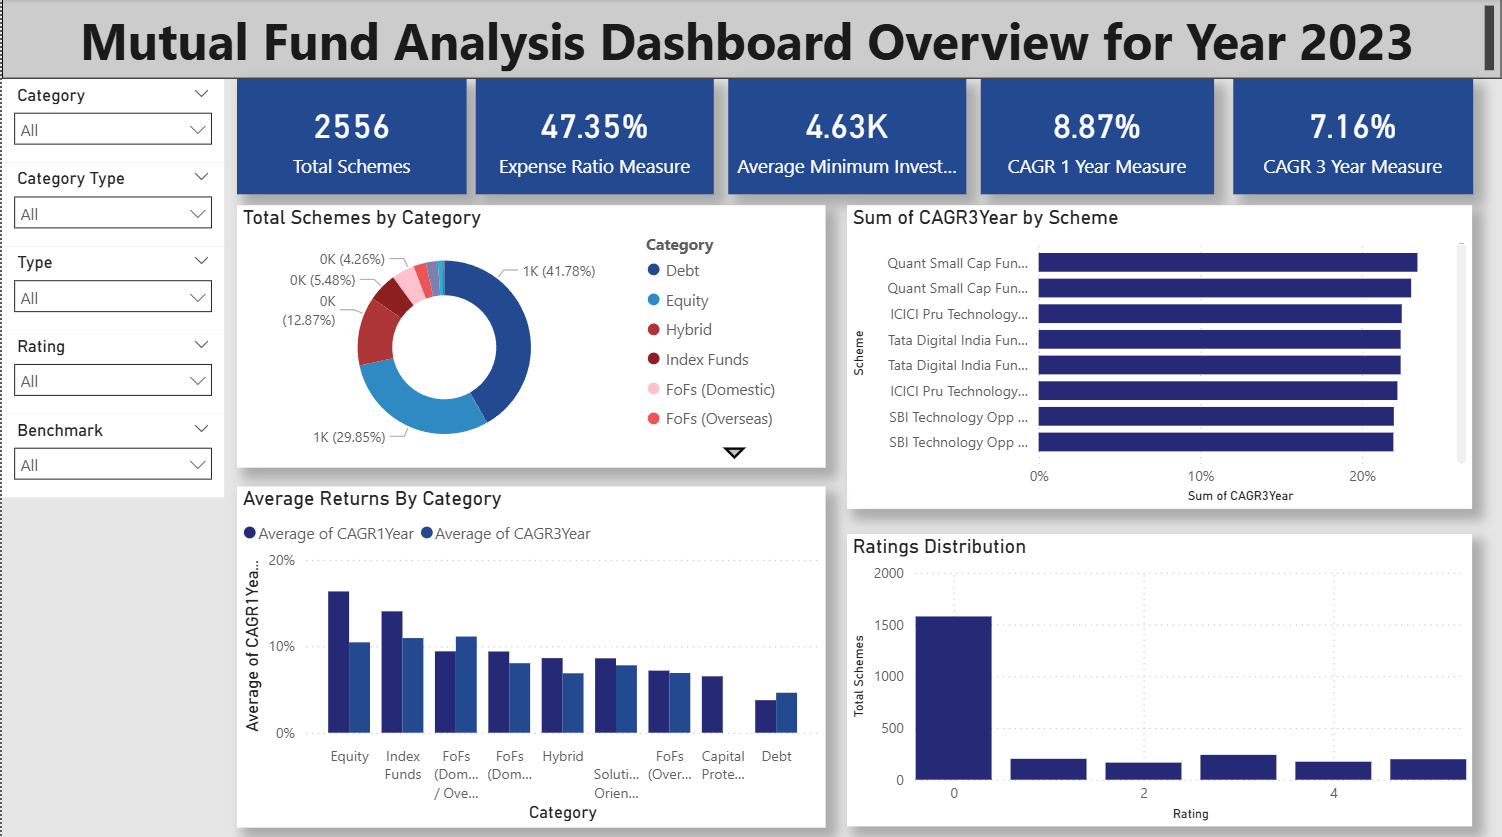

Layout of this report page (visuals, bound fields, positions):
{"tool":"powerbi","page":{"name":"Dashboard Overview","canvas":[1280,720],"ordinal":0},"visuals":[{"type":"textbox","box":[0,0,1280,68],"z":0},{"type":"card","fields":{"Values":["Main.Total Schemes"]},"box":[200.3,68.6,196.2,98.8],"z":1000},{"type":"card","fields":{"Values":["Main.Expense Ratio Measure"]},"box":[404.8,68.6,203.1,98.8],"z":2000},{"type":"card","fields":{"Values":["Main.Average Minimum Investment"]},"box":[620.2,68.6,203.1,98.8],"z":3000},{"type":"card","fields":{"Values":["Main.CAGR 1 Year Measure"]},"box":[835.7,68.6,199,98.8],"z":4000},{"type":"card","fields":{"Values":["Main.CAGR 3 Year Measure"]},"box":[1051.1,68.6,204.5,98.8],"z":5000},{"type":"slicer","fields":{"Values":["Ranking Segments.Category"]},"box":[0,68.6,189.4,71.4],"z":6000},{"type":"slicer","fields":{"Values":["Main.Type"]},"box":[0,211.3,189.4,71.4],"z":7000},{"type":"slicer","fields":{"Values":["Main.Rating"]},"box":[0,282.7,189.4,71.4],"z":8000},{"type":"slicer","fields":{"Values":["Main.Benchmark"]},"box":[0,354,189.4,71.4],"z":9000},{"type":"donutChart","fields":{"Y":["Main.Total Schemes"],"Category":["Ranking Segments.Category"]},"box":[200.3,175.6,502.2,223.7],"z":10000},{"type":"barChart","fields":{"Category":["Ranking Segments.Scheme"],"Y":["Sum(Main.CAGR3Year)"]},"box":[721.8,175.6,533.8,259.3],"z":11000},{"type":"clusteredColumnChart","title":"Average Returns By Category","fields":{"Y":["Avg(Main.CAGR1Year)","Avg(Main.CAGR3Year)"],"Category":["Ranking Segments.Category"]},"box":[200.3,415.8,502.2,290.9],"z":12000},{"type":"columnChart","title":"Ratings Distribution","fields":{"Category":["Main.Rating"],"Y":["Main.Total Schemes"]},"box":[721.8,456.9,533.8,249.7],"z":13000},{"type":"slicer","fields":{"Values":["Ranking Segments.Category Type"]},"box":[0,140,189.4,71.4],"z":14000}]}

Visuals, with their boxes in screenshot pixels (x1, y1, x2, y2), scaled from the page's 1280x720 canvas onto the 1502x837 screenshot:
textbox: region(0, 0, 1501, 79)
card - Main.Total Schemes: region(235, 80, 465, 195)
card - Main.Expense Ratio Measure: region(475, 80, 713, 195)
card - Main.Average Minimum Investment: region(728, 80, 966, 195)
card - Main.CAGR 1 Year Measure: region(981, 80, 1214, 195)
card - Main.CAGR 3 Year Measure: region(1233, 80, 1473, 195)
slicer - Ranking Segments.Category: region(0, 80, 222, 163)
slicer - Main.Type: region(0, 246, 222, 329)
slicer - Main.Rating: region(0, 329, 222, 412)
slicer - Main.Benchmark: region(0, 412, 222, 495)
donutChart - Main.Total Schemes x Ranking Segments.Category: region(235, 204, 824, 464)
barChart - Ranking Segments.Scheme x Sum(Main.CAGR3Year): region(847, 204, 1473, 506)
"Average Returns By Category" clusteredColumnChart: region(235, 483, 824, 822)
"Ratings Distribution" columnChart: region(847, 531, 1473, 821)
slicer - Ranking Segments.Category Type: region(0, 163, 222, 246)
